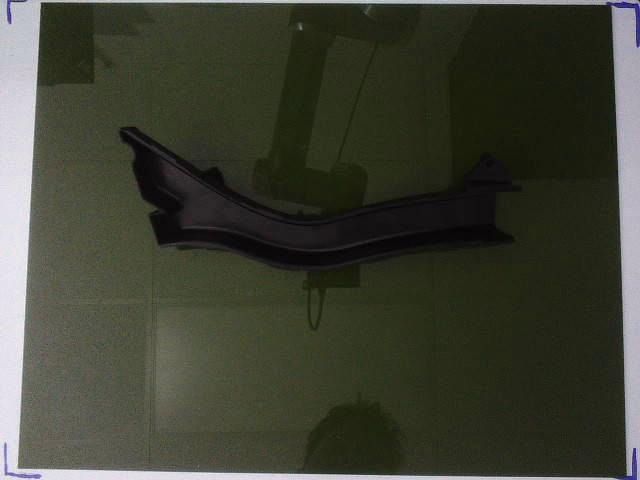887_A-Under: (119, 125, 519, 271)
